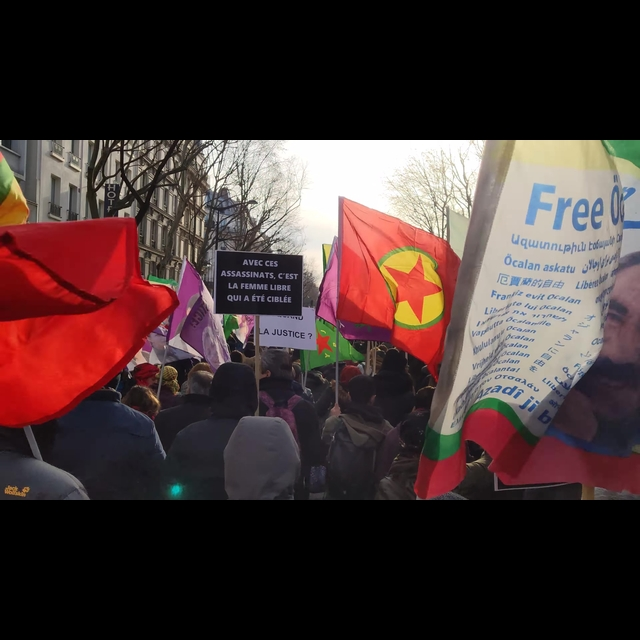PKK: (362, 243, 451, 331)
YPJ: (313, 325, 340, 362)
